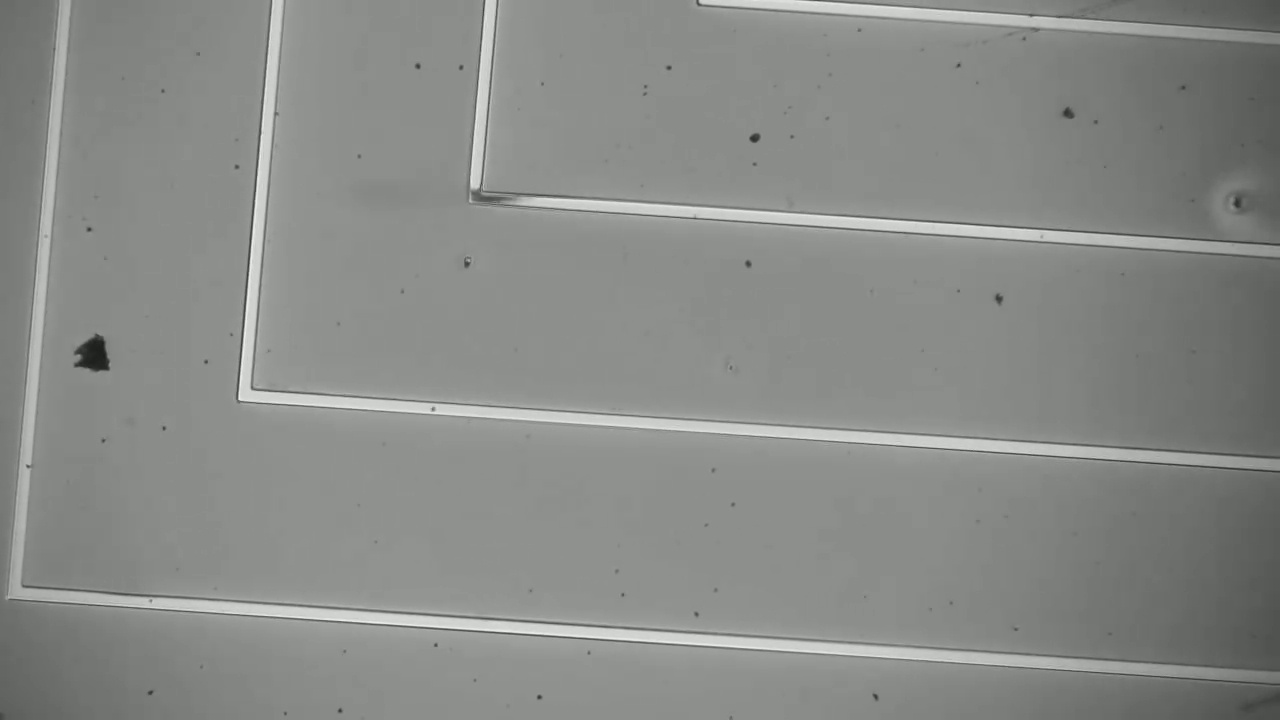gray_line: (458, 182, 532, 221)
